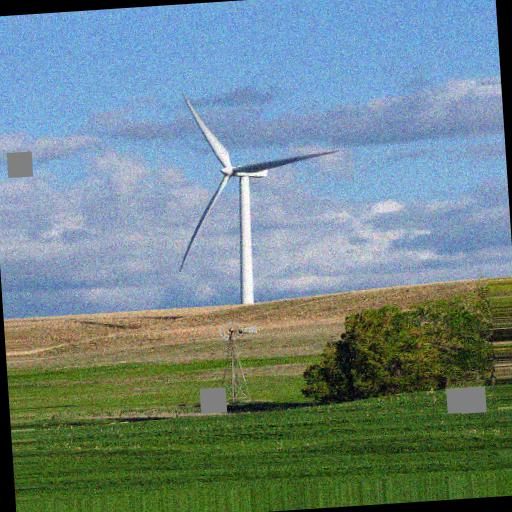wind turbine: (177, 87, 341, 304)
